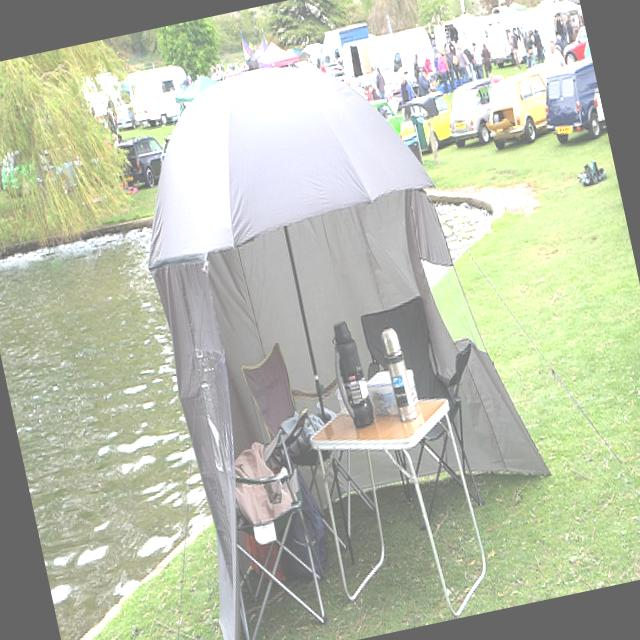Vehicle: (476, 61, 568, 151), (532, 55, 608, 146), (124, 61, 198, 130), (441, 74, 504, 150), (394, 89, 458, 154), (347, 47, 419, 100), (111, 134, 171, 194), (19, 144, 84, 199), (317, 22, 373, 66), (370, 95, 410, 139), (0, 144, 29, 195), (558, 23, 592, 64), (112, 101, 138, 132)
